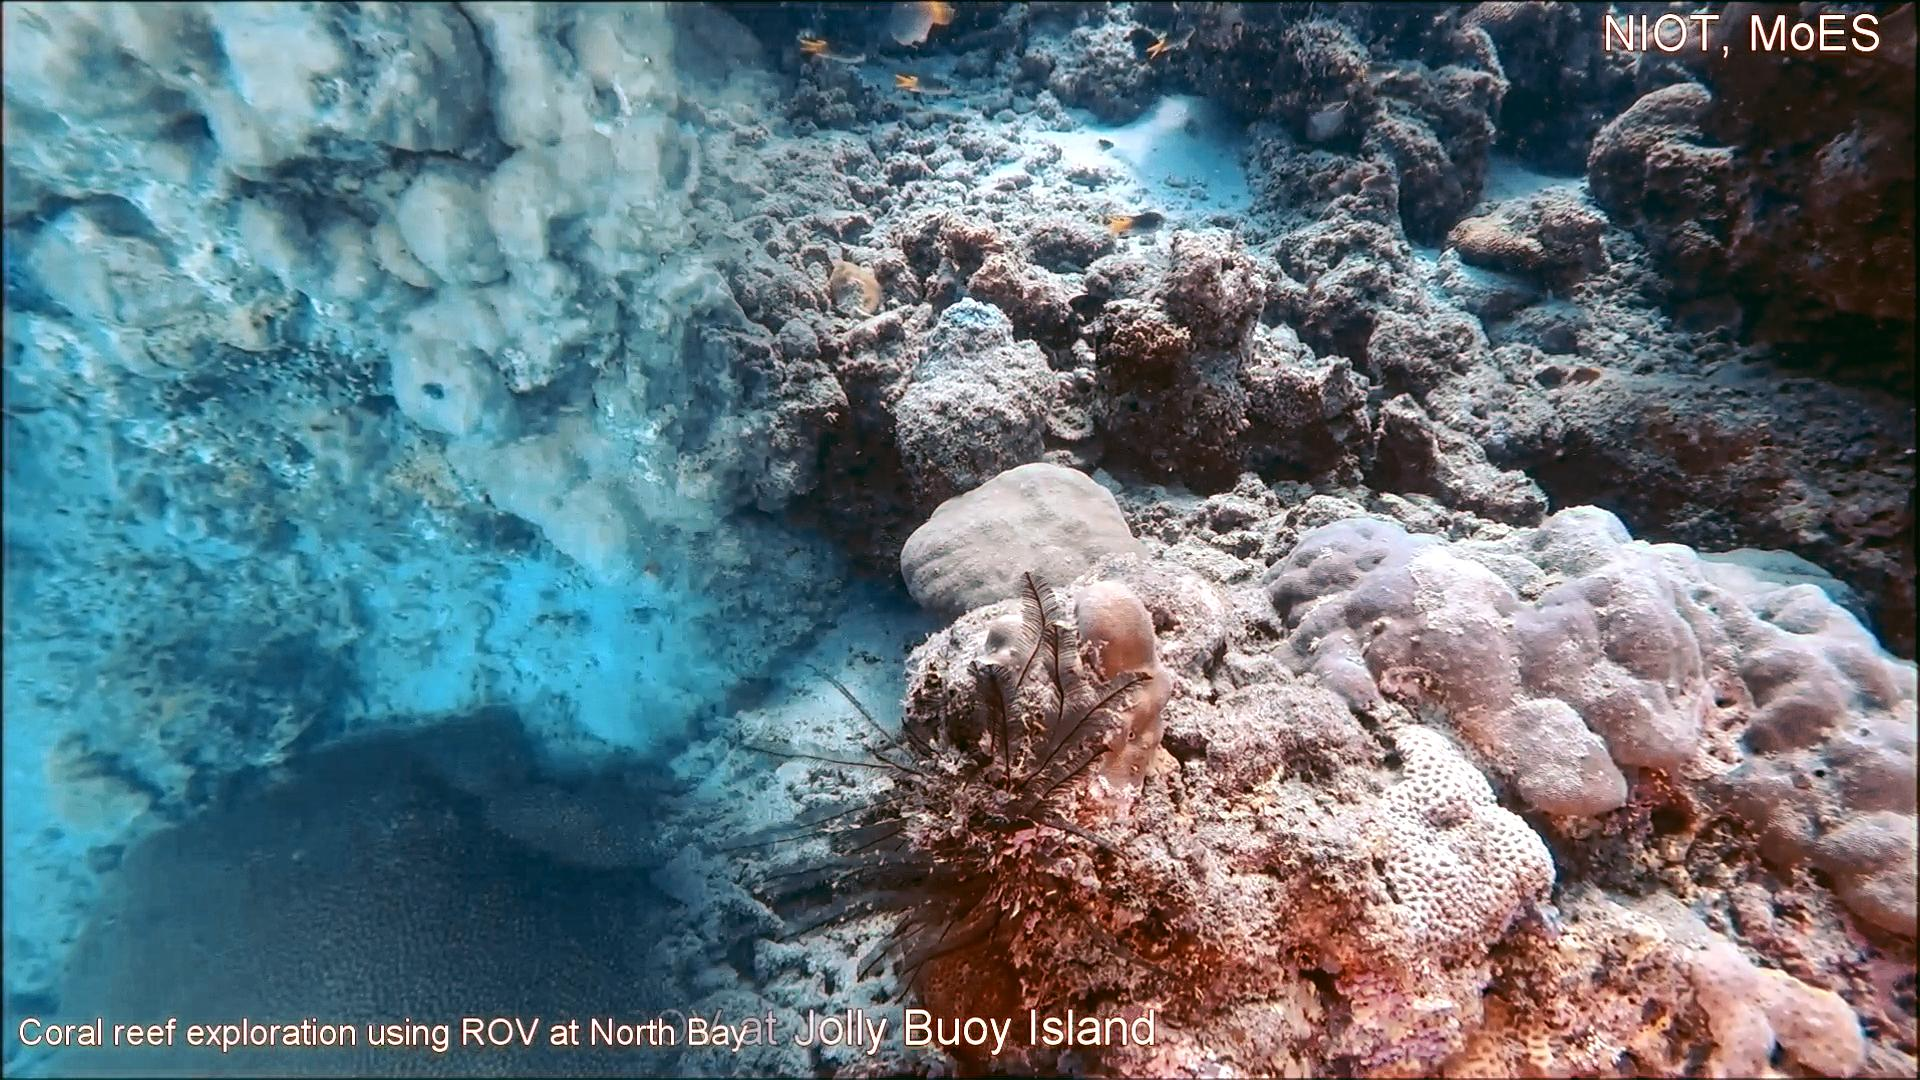Feather star-Crinoid star: (696, 567, 1168, 1004)
Goniastrea-Goniastrea pectinata: (1342, 712, 1560, 959)
Porites-Porites pukoensis: (1600, 495, 1920, 955)
